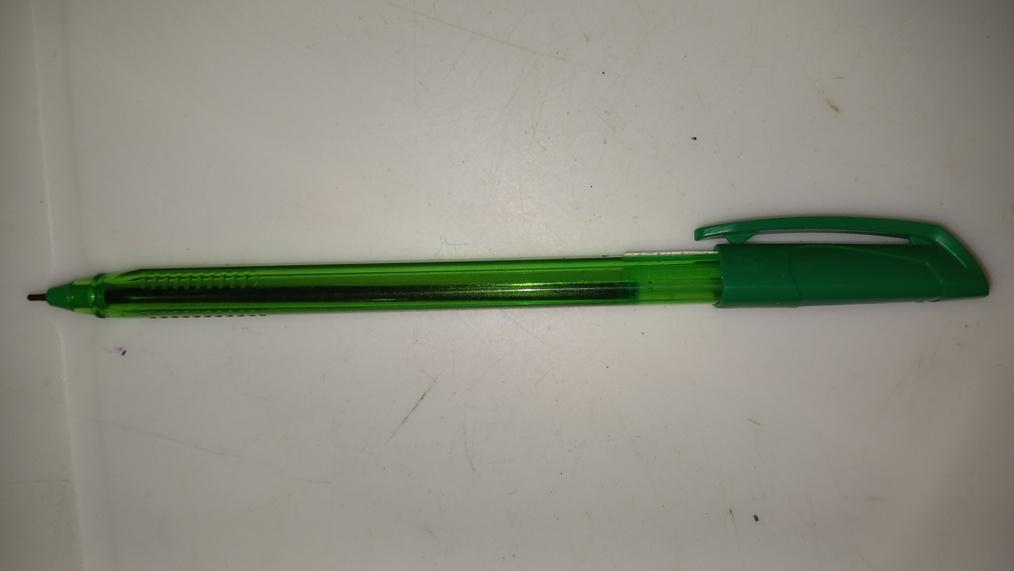pen: (23, 214, 997, 316)
